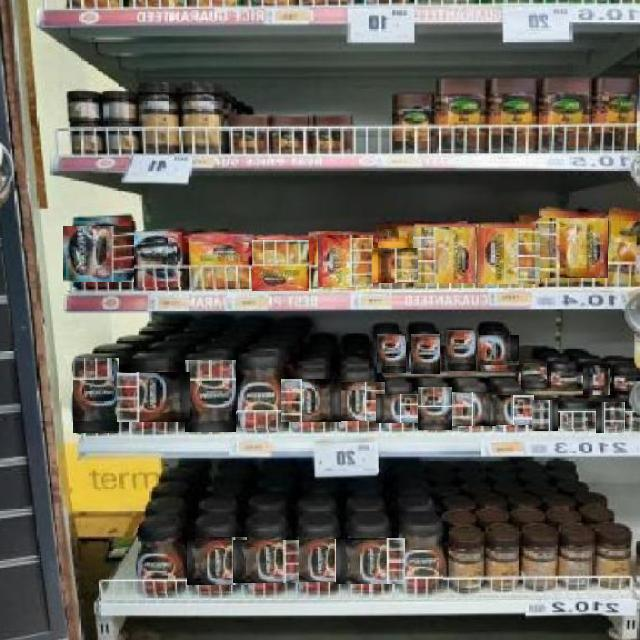Coffee: (535, 218, 608, 278), (63, 225, 134, 282), (184, 359, 236, 432), (116, 373, 190, 422), (478, 227, 540, 284), (413, 227, 475, 283), (238, 358, 286, 430), (73, 358, 119, 433), (135, 528, 187, 594), (336, 537, 405, 584), (183, 536, 247, 585), (252, 239, 309, 291), (397, 527, 443, 591), (233, 539, 299, 583), (319, 234, 373, 287), (135, 230, 185, 287), (285, 539, 350, 582), (191, 239, 245, 289), (281, 380, 341, 422), (328, 382, 385, 421), (372, 247, 418, 283), (451, 392, 496, 426), (417, 387, 452, 430), (490, 395, 534, 425), (376, 393, 419, 423), (477, 335, 519, 365), (446, 330, 476, 371), (411, 333, 440, 374), (377, 333, 406, 373), (597, 402, 625, 433), (583, 363, 610, 395), (531, 401, 558, 431), (552, 363, 579, 392), (560, 403, 590, 429), (521, 362, 547, 389)
